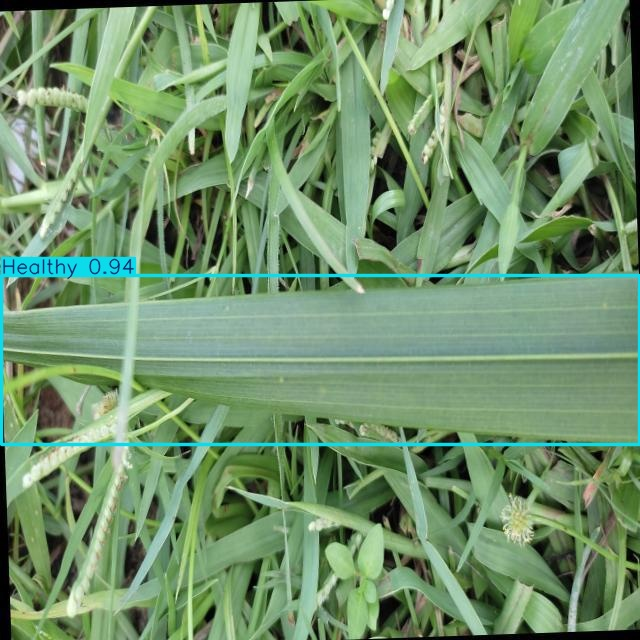Healthy: (2, 275, 640, 444)
